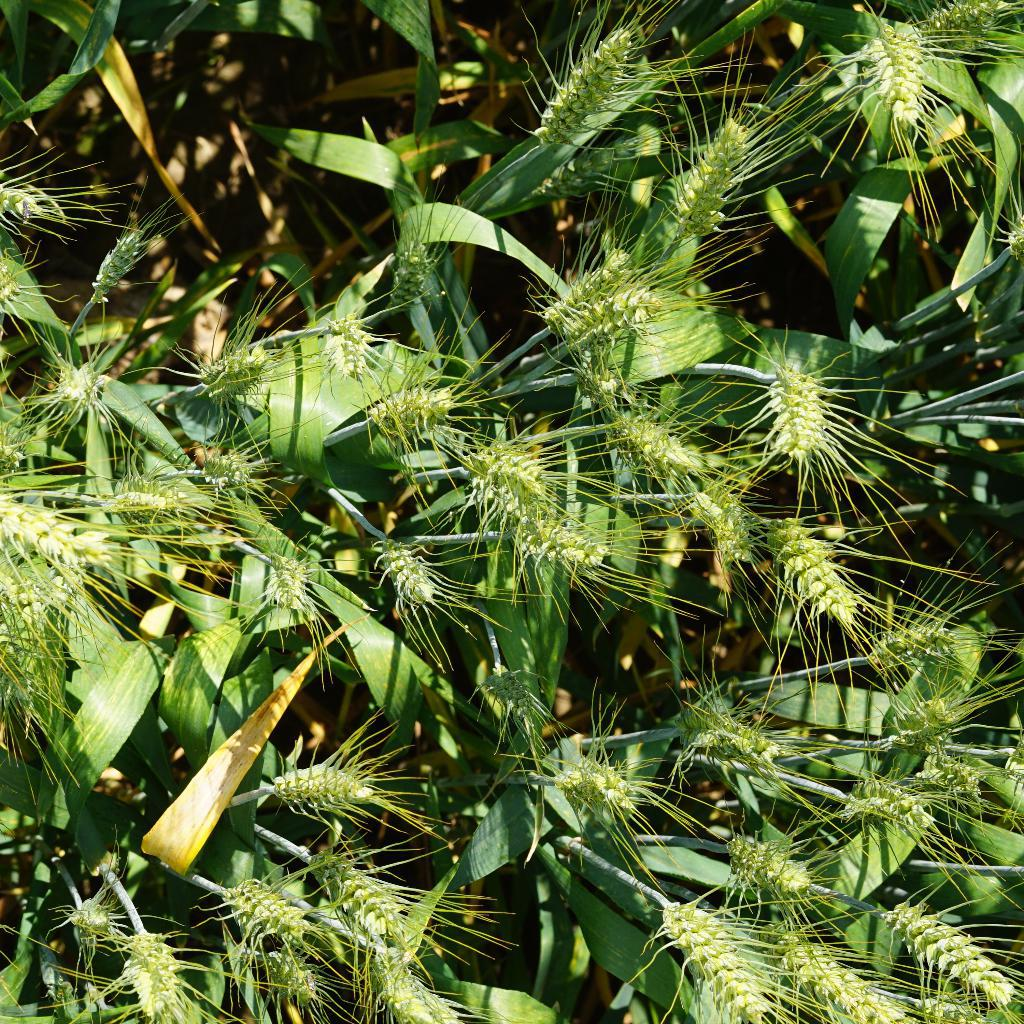0-0: (742, 912, 926, 1024), (508, 25, 642, 152), (662, 890, 774, 1024), (651, 114, 759, 250), (878, 892, 1011, 1002), (0, 451, 100, 582), (759, 514, 862, 628), (305, 849, 418, 941), (366, 948, 501, 1024), (686, 690, 791, 776), (856, 18, 930, 134), (717, 825, 821, 905), (761, 361, 838, 468), (509, 505, 620, 579), (0, 535, 85, 631), (537, 249, 643, 324), (522, 137, 633, 207), (122, 911, 191, 1021), (467, 433, 563, 512), (549, 292, 675, 352), (351, 374, 467, 437), (221, 870, 322, 942), (83, 217, 152, 317), (271, 761, 389, 819), (552, 747, 642, 823), (686, 474, 761, 565), (363, 534, 447, 613), (836, 772, 935, 838), (601, 410, 692, 481), (40, 358, 124, 432), (860, 619, 957, 680), (312, 308, 383, 385), (180, 443, 277, 493), (377, 227, 444, 299), (0, 171, 62, 246), (98, 475, 187, 527), (191, 346, 268, 406), (926, 0, 1024, 46), (916, 737, 987, 800), (0, 601, 41, 708), (258, 549, 318, 621), (894, 692, 957, 759), (266, 945, 326, 1012), (490, 662, 541, 724), (63, 896, 118, 952), (575, 363, 628, 415)
